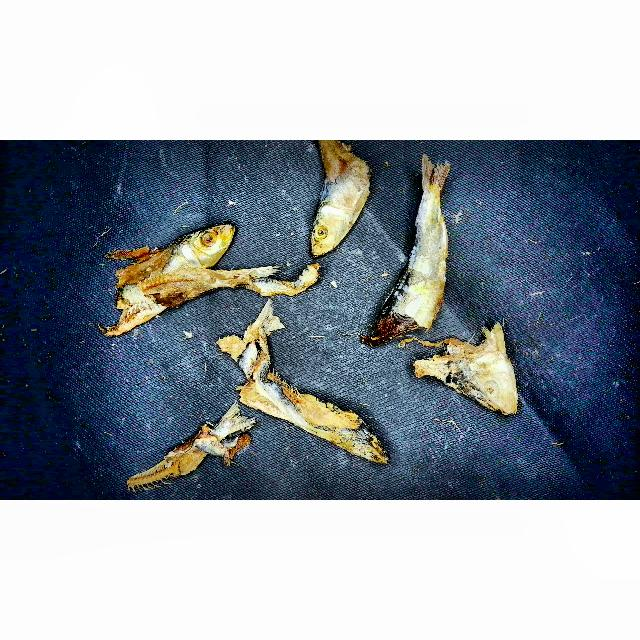Rejected_Body: (357, 200, 451, 348), (94, 260, 231, 337), (231, 344, 337, 435), (125, 426, 214, 495)
Rejected_Head: (407, 327, 526, 418), (304, 140, 371, 260), (155, 212, 246, 267), (326, 407, 390, 470), (210, 401, 259, 451)
Rejected_Tail: (409, 148, 462, 200), (236, 301, 288, 342), (238, 257, 287, 300)
